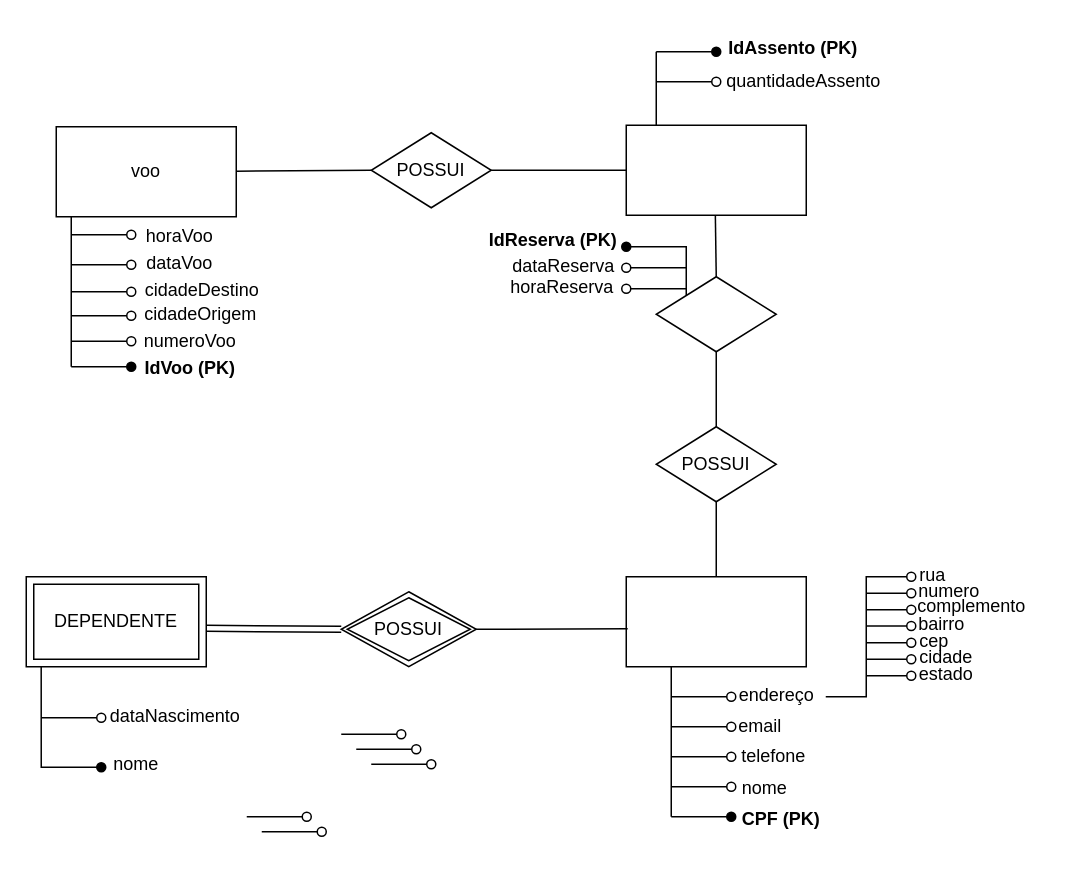
This 1073x870 diagram has some shape labels left out. The centre of each missing label's shape, as x and y in pixels:
"ASSENTO" goes at (x=715, y=169).
"PASSAGEIRO" goes at (x=715, y=621).
"RESERVA" goes at (x=715, y=313).
